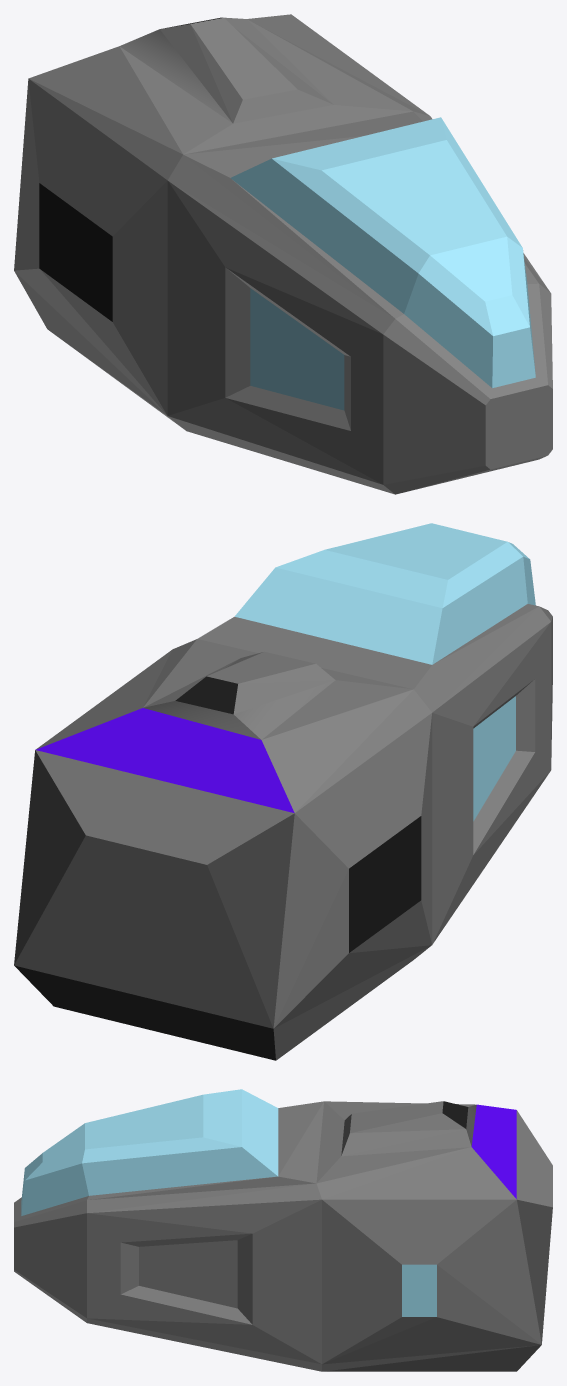
The picture shows the model from 3 angles, top to bottom: view 1: azimuth 30°, elevation 25°; view 2: azimuth 150°, elevation 25°; view 3: azimuth 270°, elevation 25°; orthographic projection. The views are drawn at different scales.
Parts seen in each view (by area): view 1: Cube; view 2: Cube; view 3: Cube.
Boxes of the visible parts, bbox=[...] form: Cube: bbox=[14, 14, 552, 494]; Cube: bbox=[14, 523, 552, 1060]; Cube: bbox=[14, 1089, 552, 1371].
Size of the model in its own units: 1.44 by 1.42 by 3.09.
1 material, 1 textured.
